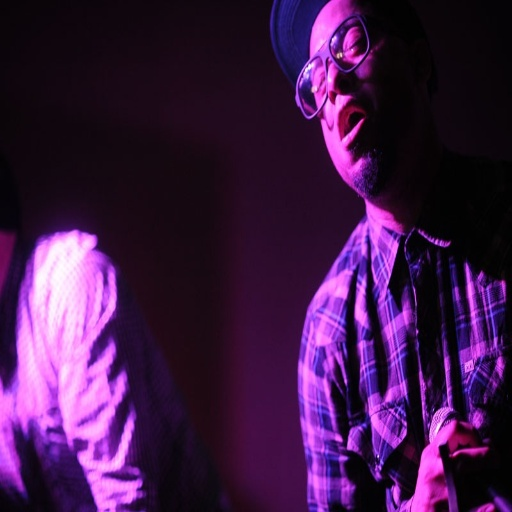hand: (410, 420, 496, 511)
